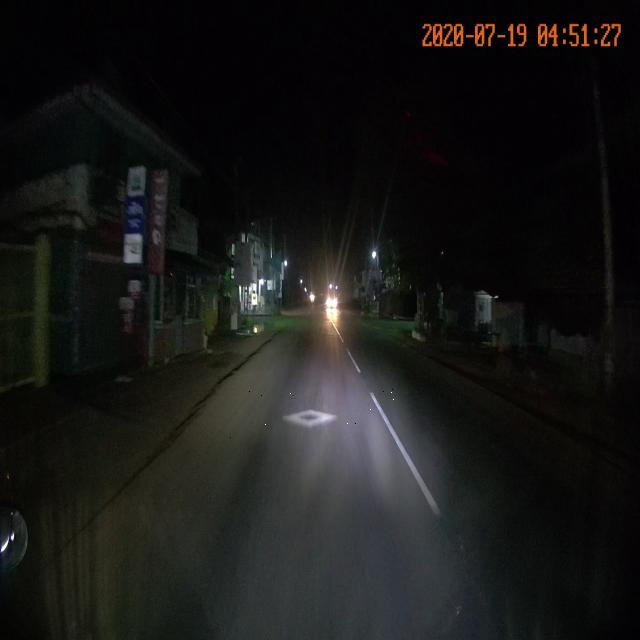diamond: (224, 388, 401, 444)
